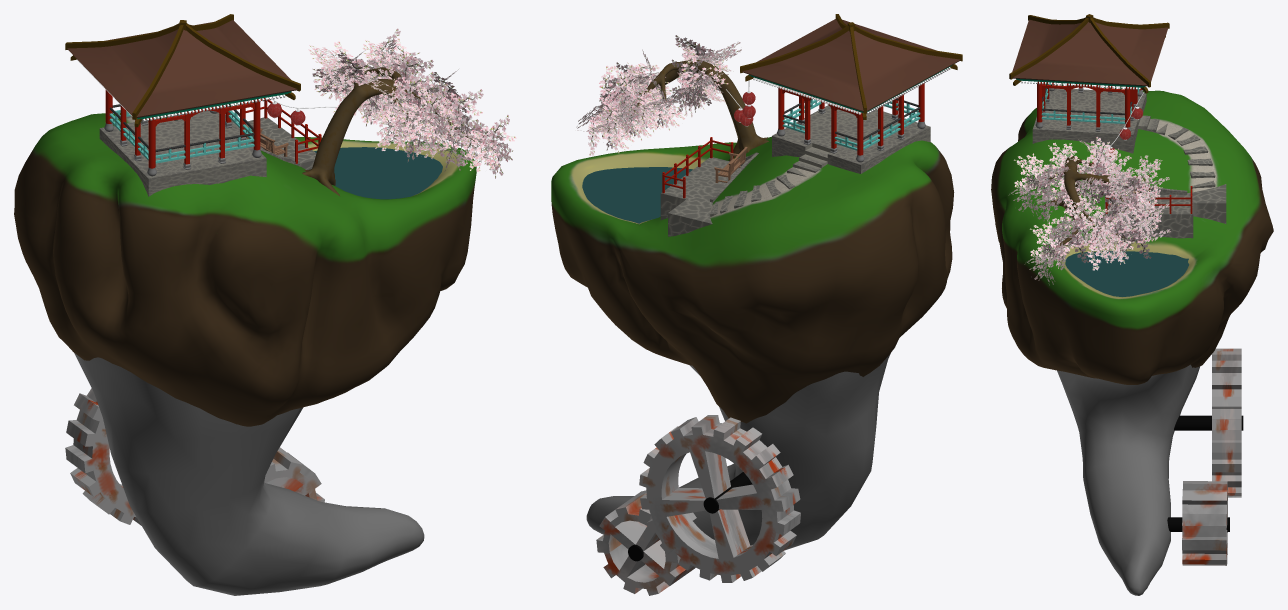
3 views of the same model, side by side, from view 1: azimuth 30°, elevation 25°; view 2: azimuth 150°, elevation 25°; view 3: azimuth 270°, elevation 25° (orthographic). The views are drawn at different scales.
Visible parts, largest first — view 1: Flying_Island1:PM3D_Sphere3D_4, Flying_Island1:PM3D_Cylinder3D_3, pasted__pasted__pPlane7, Dach, PavillionUV2_polySurface1, See, Flying_Island1:pCylinder3, Baum2_Group23687, Flying_Island1:pCylinder2, Base, pasted__pCube2, pasted__pasted__pasted__pCube2; view 2: Flying_Island1:PM3D_Sphere3D_4, Flying_Island1:pCylinder3, Flying_Island1:PM3D_Cylinder3D_3, Dach, pasted__pasted__pPlane7, PavillionUV2_polySurface1, Flying_Island1:pCylinder2, See, Base, Baum2_Group23687, pCube2, pasted__pasted__pCube2; view 3: Flying_Island1:PM3D_Sphere3D_4, Flying_Island1:PM3D_Cylinder3D_3, pasted__pasted__pPlane7, Dach, PavillionUV2_polySurface1, Flying_Island1:pCylinder3, See, Flying_Island1:pCylinder2, Base, Baum2_Group23687, Flying_Island1:pCylinder4, pasted__pCube2 (+2 smaller).
Boxes of the visible parts, x1=… form: Flying_Island1:PM3D_Sphere3D_4: x1=14, y1=113, x2=476, y2=426; Flying_Island1:PM3D_Cylinder3D_3: x1=74, y1=353, x2=424, y2=595; pasted__pasted__pPlane7: x1=308, y1=28, x2=516, y2=178; Dach: x1=67, y1=20, x2=297, y2=119; PavillionUV2_polySurface1: x1=99, y1=110, x2=266, y2=196; See: x1=314, y1=147, x2=442, y2=199; Flying_Island1:pCylinder3: x1=65, y1=388, x2=141, y2=525; Baum2_Group23687: x1=302, y1=67, x2=474, y2=196; Flying_Island1:pCylinder2: x1=264, y1=447, x2=324, y2=502; Base: x1=225, y1=115, x2=316, y2=169; pasted__pCube2: x1=186, y1=23, x2=300, y2=91; pasted__pasted__pasted__pCube2: x1=65, y1=23, x2=179, y2=49; Flying_Island1:PM3D_Sphere3D_4: x1=551, y1=136, x2=954, y2=423; Flying_Island1:pCylinder3: x1=639, y1=415, x2=800, y2=582; Flying_Island1:PM3D_Cylinder3D_3: x1=586, y1=353, x2=890, y2=550; Dach: x1=742, y1=19, x2=960, y2=112; pasted__pasted__pPlane7: x1=576, y1=35, x2=741, y2=155; PavillionUV2_polySurface1: x1=772, y1=105, x2=930, y2=176; Flying_Island1:pCylinder2: x1=596, y1=490, x2=696, y2=595; See: x1=582, y1=167, x2=692, y2=223; Base: x1=660, y1=157, x2=740, y2=236; Baum2_Group23687: x1=607, y1=59, x2=768, y2=161; pCube2: x1=740, y1=25, x2=848, y2=73; pasted__pasted__pCube2: x1=855, y1=25, x2=962, y2=61; Flying_Island1:PM3D_Sphere3D_4: x1=991, y1=90, x2=1273, y2=384; Flying_Island1:PM3D_Cylinder3D_3: x1=1057, y1=364, x2=1200, y2=595; pasted__pasted__pPlane7: x1=1008, y1=137, x2=1170, y2=285; Dach: x1=1012, y1=19, x2=1168, y2=87; PavillionUV2_polySurface1: x1=1032, y1=88, x2=1167, y2=153; Flying_Island1:pCylinder3: x1=1212, y1=348, x2=1241, y2=497; See: x1=1065, y1=251, x2=1189, y2=296; Flying_Island1:pCylinder2: x1=1182, y1=481, x2=1227, y2=565; Base: x1=1104, y1=184, x2=1226, y2=238; Baum2_Group23687: x1=1043, y1=156, x2=1125, y2=247; Flying_Island1:pCylinder4: x1=1174, y1=415, x2=1243, y2=430; pasted__pCube2: x1=1009, y1=18, x2=1088, y2=79.
Bounding box in the file's own units: 26.67 × 36.24 × 19.07.
22 materials, 11 textured.
